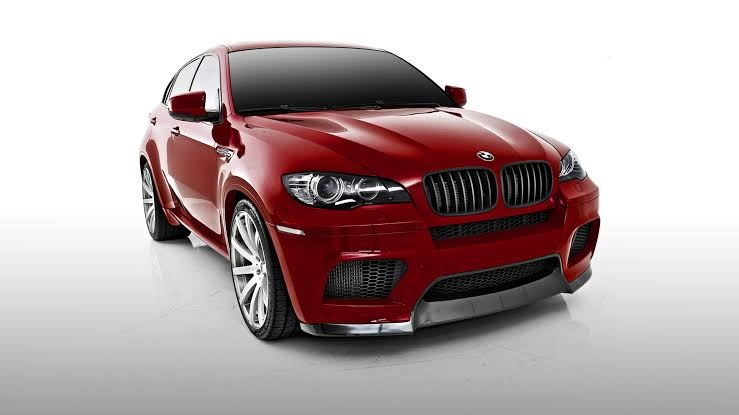bmw: (93, 38, 635, 346)
